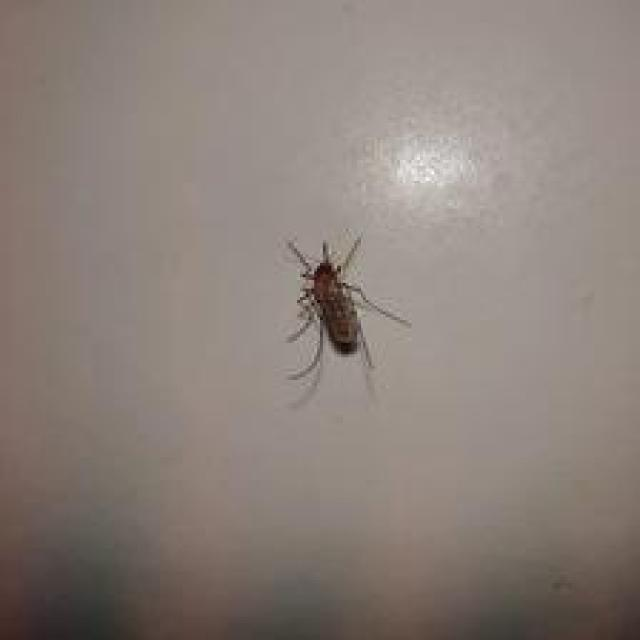Culex: (283, 228, 411, 408)
